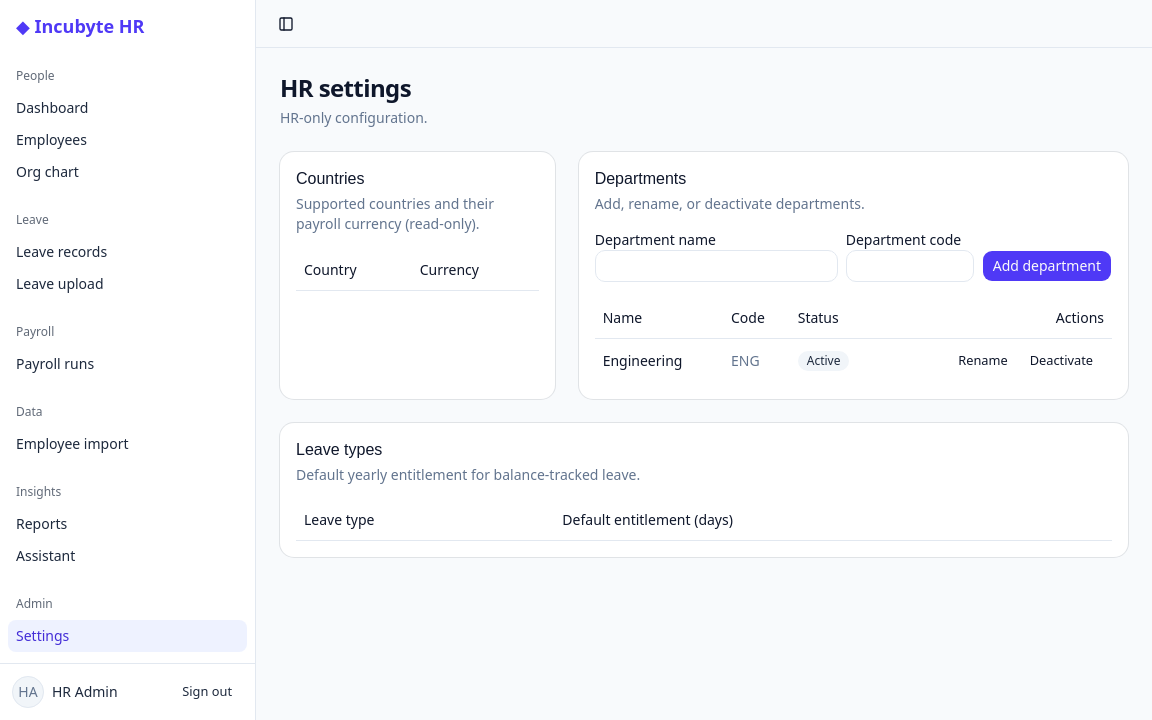
Test: App › renames a department inline
Expected: the text "Engineering" is shown, [595,338,723,382]
Click the button with aria-label "Rename Engineering" at (983, 360), box [947,346,1019,374]
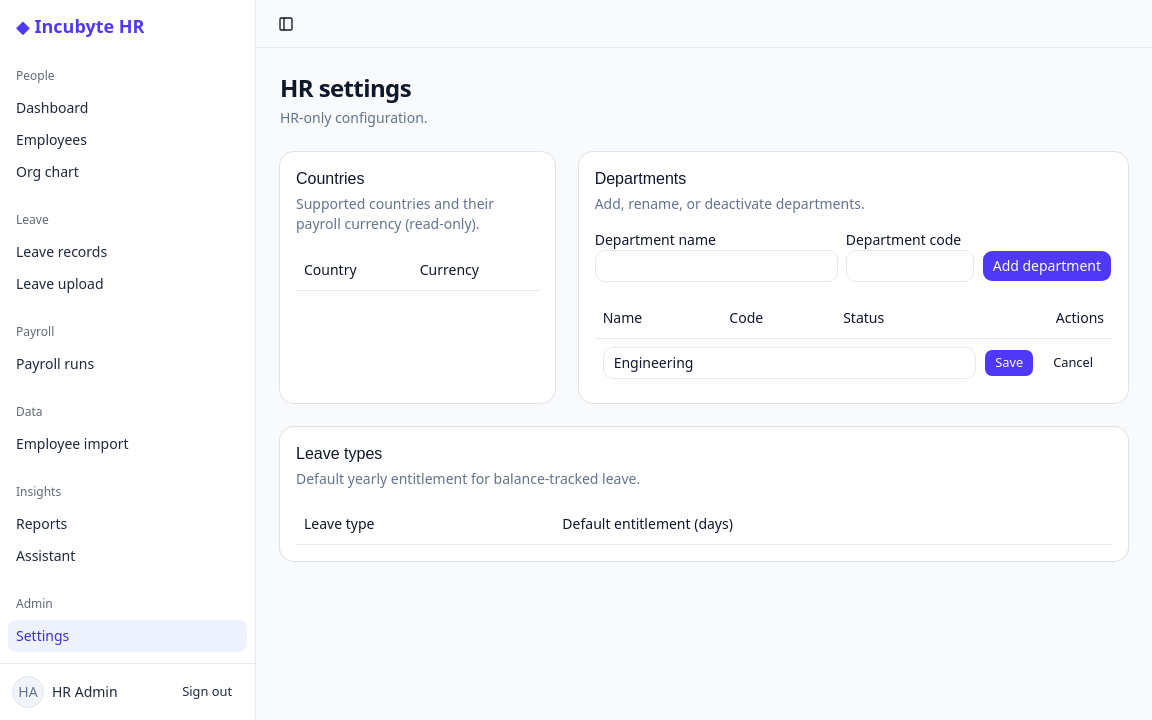
Replace the text in the field named "New name for Engineering" with "Product Engineering" at (790, 362), box [603,346,976,378]
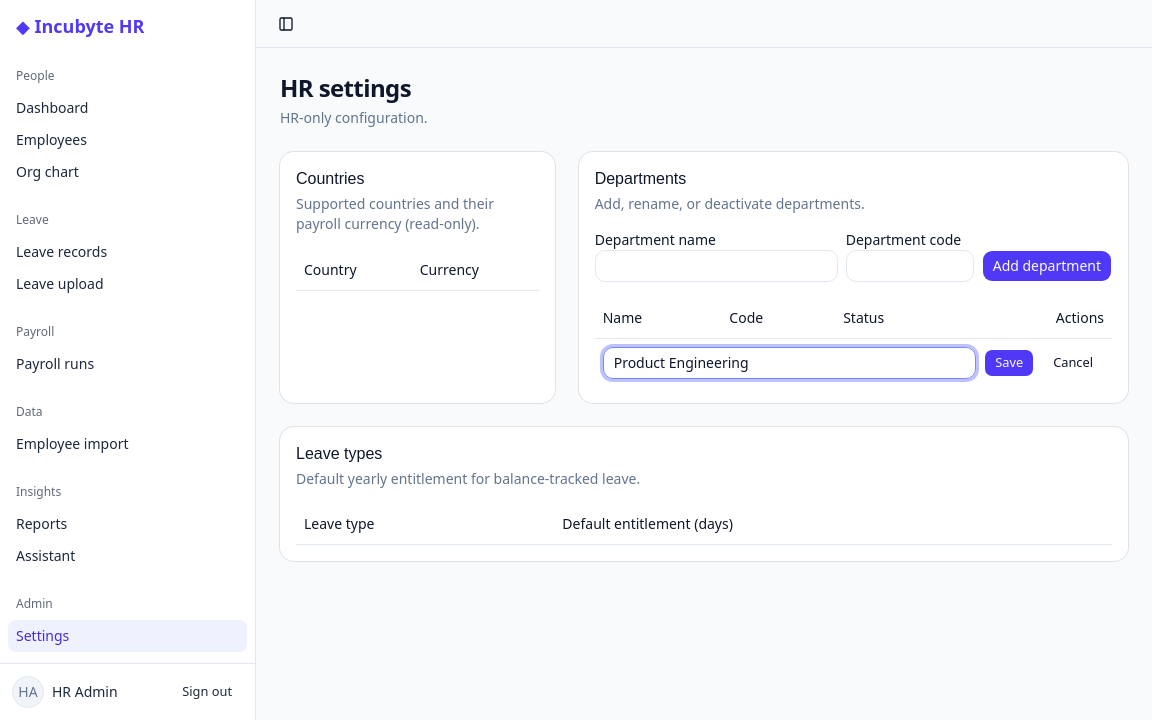
Click the button "Save" at (1009, 362), box [984,348,1034,376]
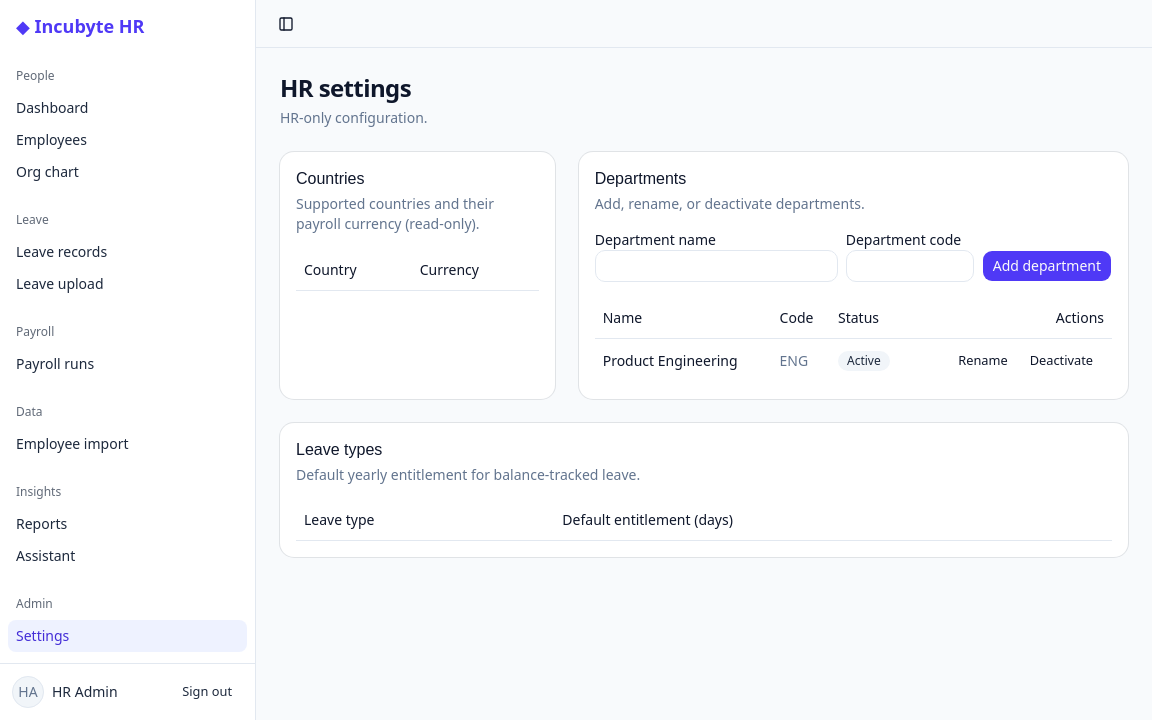
Expected: the text "Product Engineering" is shown, [595,338,772,382]
